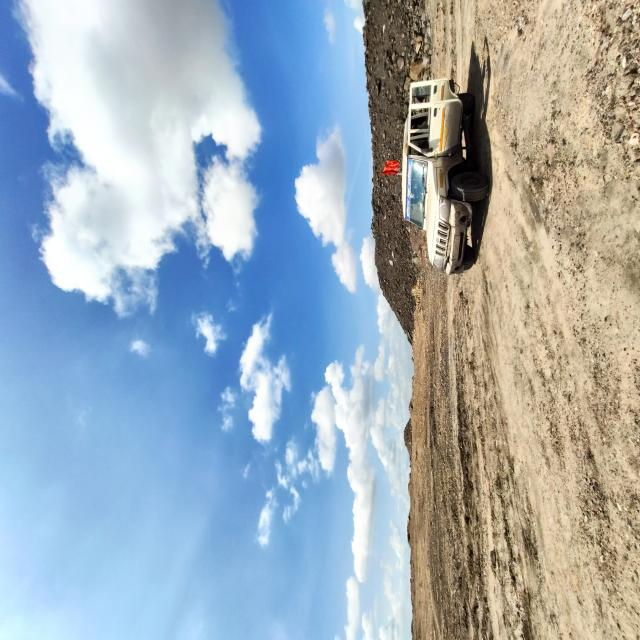light_vehicle: (270, 512, 416, 640)
